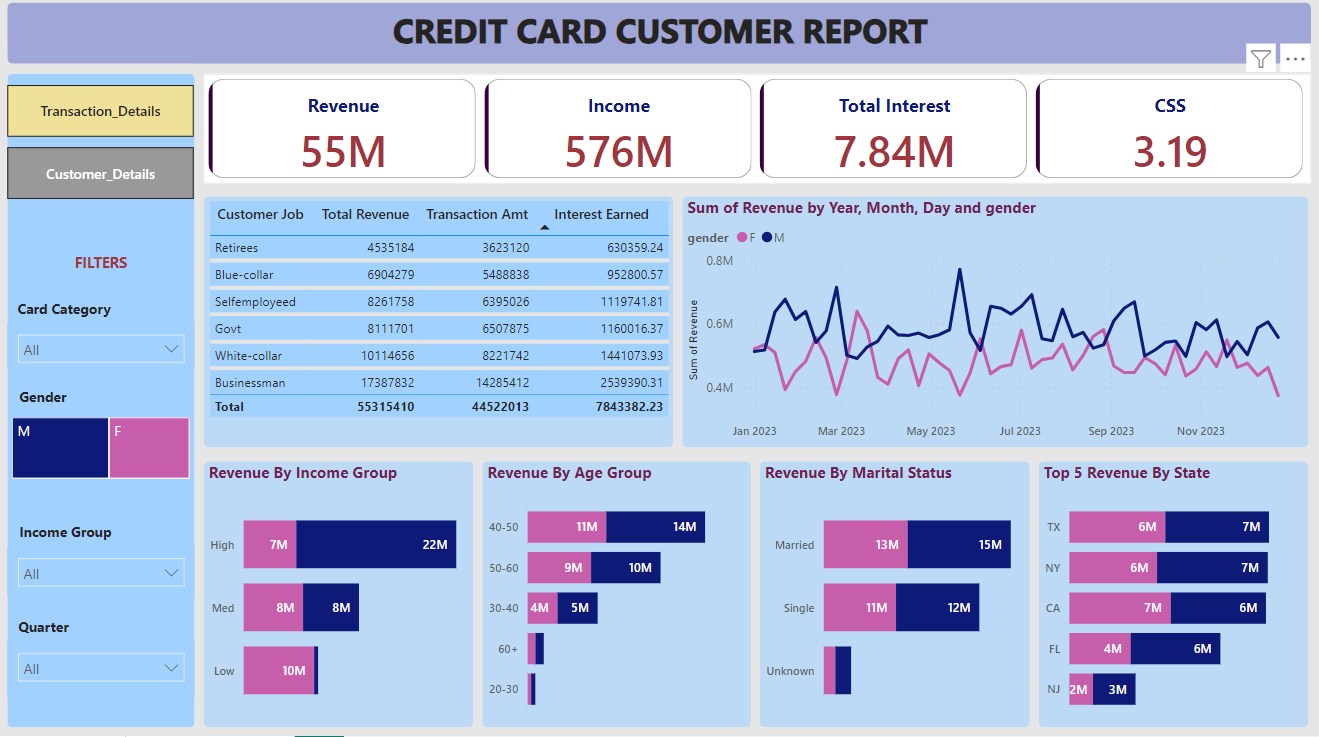

The page's visual inventory and layout, read from the dashboard file:
{"tool":"powerbi","page":{"name":"Customer_Details","canvas":[1280,720],"ordinal":1},"visuals":[{"type":"shape","box":[10.9,12.1,1258.3,59.1],"z":0},{"type":"textbox","box":[325.7,12.1,631,59.1],"z":1000},{"type":"shape","box":[10.9,80.8,181,631],"z":2000},{"type":"textbox","box":[10.9,248.5,181,30.2],"z":3000},{"type":"slicer","fields":{"Values":["public cc_detail.card_category"]},"box":[10.9,322.1,181,41],"z":4000},{"type":"cardVisual","fields":{"Data":["Sum(public cc_detail.Revenue)","Sum(public cust_detail.income)","Sum(public cc_detail.interest_earned)","Avg(public cust_detail.cust_satisfaction_score)"]},"box":[200.3,80.8,1068.9,106.2],"z":5000},{"type":"shape","box":[662.3,199.1,604.4,242.5],"z":6000},{"type":"shape","box":[200.3,199.1,453.6,242.5],"z":7000},{"type":"shape","box":[200.3,454.8,260.6,257],"z":8000},{"type":"shape","box":[469.3,454.8,259.4,257],"z":9000},{"type":"shape","box":[1006.2,454.8,260.6,257],"z":10000},{"type":"shape","box":[737.1,454.8,260.6,257],"z":11000},{"type":"barChart","title":"Revenue By Income Group","fields":{"Y":["Sum(public cc_detail.Revenue)"],"Category":["public cust_detail.Income group"],"Series":["public cust_detail.gender"]},"box":[200.3,454.8,254.6,257],"z":12000},{"type":"barChart","title":"Revenue By Age Group","fields":{"Y":["Sum(public cc_detail.Revenue)"],"Category":["public cust_detail.Age_group"],"Series":["public cust_detail.gender"]},"box":[469.3,454.8,260.6,257],"z":13000},{"type":"barChart","title":"Revenue By Marital Status","fields":{"Y":["Sum(public cc_detail.Revenue)"],"Series":["public cust_detail.gender"],"Category":["public cust_detail.marital_status"]},"box":[737.1,454.8,260.6,257],"z":14000},{"type":"barChart","title":"Top 5 Revenue By State","fields":{"Y":["Sum(public cc_detail.Revenue)"],"Category":["public cust_detail.state_cd"],"Series":["public cust_detail.gender"]},"box":[1006.2,454.8,260.6,257],"z":15000},{"type":"tableEx","fields":{"Values":["public cust_detail.customer_job","Sum(public cc_detail.Revenue)","Sum(public cc_detail.total_trans_amt)","Sum(public cc_detail.interest_earned)"]},"box":[200.3,199.1,462.1,242.5],"z":16000},{"type":"slicer","fields":{"Values":["public cust_detail.Income group"]},"box":[10.9,538.1,181,45.8],"z":17000},{"type":"slicer","fields":{"Values":["public cc_detail.qtr"]},"box":[10.9,629.8,181,51.9],"z":18000},{"type":"pageNavigator","box":[10.9,91.7,181,111],"z":19000},{"type":"treemap","title":"Gender","fields":{"Group":["public cust_detail.gender"],"Values":["Sum(public cc_detail.Revenue)"]},"box":[10.9,407.8,181,68.8],"z":20000},{"type":"textbox","box":[10.9,378.8,68.8,29],"z":21000},{"type":"textbox","box":[10.9,293.2,109.8,29],"z":22000},{"type":"textbox","box":[12.1,509.1,109.8,29],"z":23000},{"type":"textbox","box":[12.1,600.8,67.6,29],"z":24000},{"type":"lineChart","fields":{"Y":["Sum(public cc_detail.Revenue)"],"Series":["public cust_detail.gender"],"Category":["public cc_detail.week_start_date.Variation.Date Hierarchy.Year","public cc_detail.week_start_date.Variation.Date Hierarchy.Month","public cc_detail.week_start_date.Variation.Date Hierarchy.Day"]},"box":[662.3,199.1,604.4,243.7],"z":25000}]}

Visuals, with their boxes in screenshot pixels (x1, y1, x2, y2), scaled from the page's 1280x720 canvas onto the 1319x737 screenshot:
shape: 11, 12, 1308, 73
textbox: 336, 12, 986, 73
shape: 11, 83, 198, 729
textbox: 11, 254, 198, 285
slicer - public cc_detail.card_category: 11, 330, 198, 372
cardVisual - Sum(public cc_detail.Revenue) x Sum(public cust_detail.income): 206, 83, 1308, 191
shape: 682, 204, 1305, 452
shape: 206, 204, 674, 452
shape: 206, 466, 475, 729
shape: 484, 466, 751, 729
shape: 1037, 466, 1305, 729
shape: 760, 466, 1028, 729
"Revenue By Income Group" barChart: 206, 466, 469, 729
"Revenue By Age Group" barChart: 484, 466, 752, 729
"Revenue By Marital Status" barChart: 760, 466, 1028, 729
"Top 5 Revenue By State" barChart: 1037, 466, 1305, 729
tableEx - public cust_detail.customer_job x Sum(public cc_detail.Revenue): 206, 204, 683, 452
slicer - public cust_detail.Income group: 11, 551, 198, 598
slicer - public cc_detail.qtr: 11, 645, 198, 698
pageNavigator: 11, 94, 198, 207
"Gender" treemap: 11, 417, 198, 488
textbox: 11, 388, 82, 417
textbox: 11, 300, 124, 330
textbox: 12, 521, 126, 551
textbox: 12, 615, 82, 645
lineChart - Sum(public cc_detail.Revenue) x public cust_detail.gender: 682, 204, 1305, 453
